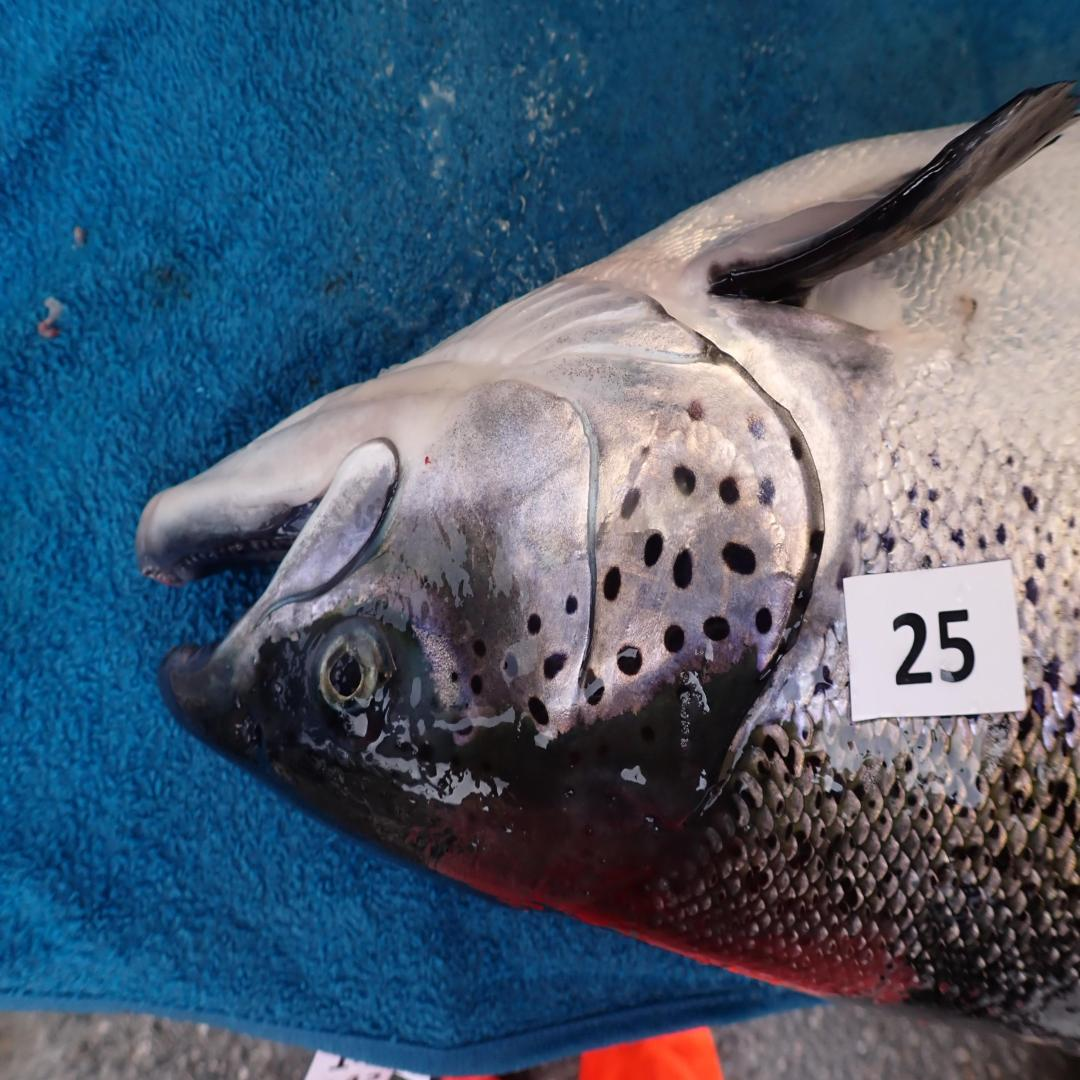spot: (721, 543, 755, 574), (673, 548, 692, 588), (616, 647, 641, 675), (702, 616, 730, 641), (620, 487, 641, 520), (544, 652, 567, 681), (584, 672, 603, 706), (673, 467, 696, 495), (603, 565, 620, 602), (643, 532, 662, 565), (527, 698, 548, 726), (664, 624, 683, 652), (719, 478, 738, 503), (755, 608, 772, 633), (759, 478, 774, 506), (688, 399, 705, 422), (504, 652, 519, 678), (788, 435, 803, 459), (527, 613, 542, 636), (809, 531, 823, 555), (749, 419, 764, 439), (470, 675, 483, 695), (472, 638, 487, 655), (565, 596, 578, 613), (639, 444, 650, 464), (449, 669, 460, 683)
